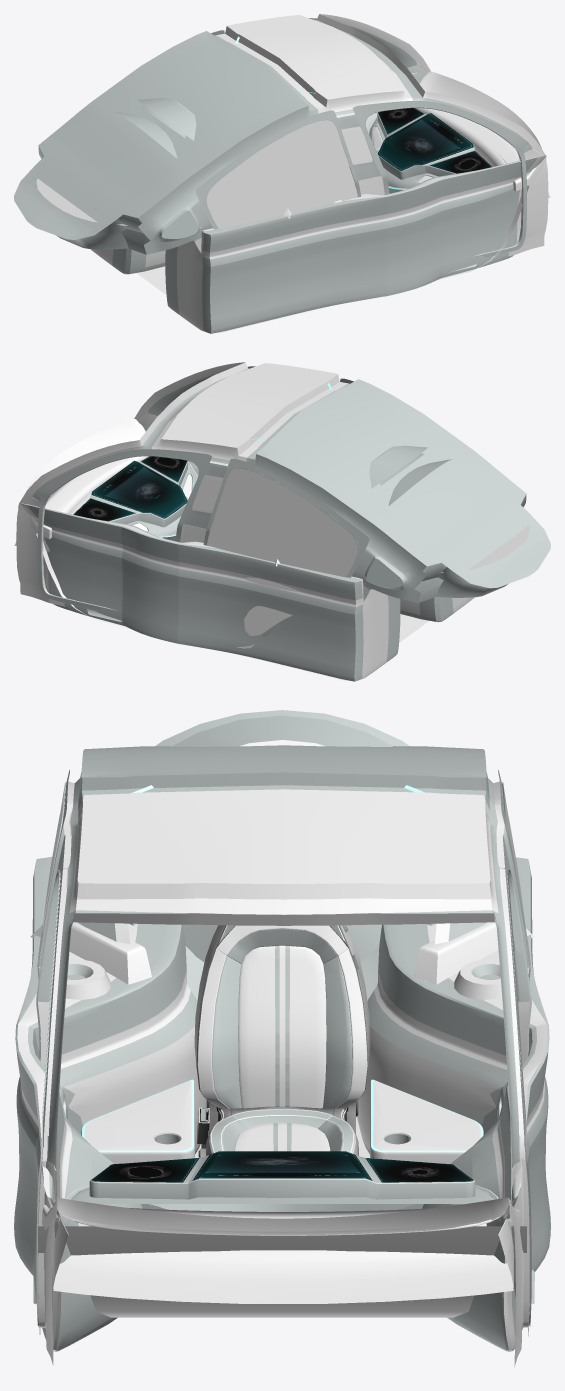
File: Bynocs Car 01.fbx
The picture shows the model from 3 angles, top to bottom: view 1: azimuth 30°, elevation 25°; view 2: azimuth 150°, elevation 25°; view 3: azimuth 270°, elevation 25°; orthographic projection. The views are drawn at different scales.
Visible parts, largest first — view 1: Frame_Low, Cube.001, Cube.002, Dashboard_Upper_Low, Sphere, Plane, Cube, Leather_white_Low; view 2: Frame_Low, Cube.001, Cube.002, Dashboard_Upper_Low, Sphere, Plane, Cube, Leather_white_Low; view 3: Frame_Low, Cube.001, Dashboard_Upper_Low, Plane, Cube.002, Lether_Y_1, Cube.003, Lether_Y_4, Sphere, Cube.004, Cube, Cylinder.001 (+5 smaller).
Part boxes in pixels (left/top/right/bottom): Frame_Low: left=14, top=14, right=548, bottom=272; Cube.001: left=90, top=72, right=546, bottom=333; Cube.002: left=377, top=108, right=492, bottom=179; Dashboard_Upper_Low: left=415, top=71, right=550, bottom=197; Sphere: left=113, top=98, right=196, bottom=158; Plane: left=136, top=185, right=529, bottom=333; Cube: left=367, top=114, right=438, bottom=193; Leather_white_Low: left=36, top=178, right=203, bottom=231; Frame_Low: left=16, top=362, right=550, bottom=648; Cube.001: left=19, top=424, right=474, bottom=681; Cube.002: left=73, top=456, right=188, bottom=527; Dashboard_Upper_Low: left=14, top=419, right=148, bottom=551; Sphere: left=369, top=445, right=452, bottom=505; Plane: left=36, top=533, right=429, bottom=680; Cube: left=127, top=462, right=197, bottom=540; Leather_white_Low: left=439, top=525, right=529, bottom=573; Frame_Low: left=33, top=745, right=534, bottom=1367; Cube.001: left=14, top=857, right=550, bottom=1351; Dashboard_Upper_Low: left=42, top=1197, right=522, bottom=1303; Plane: left=38, top=1116, right=526, bottom=1317; Cube.002: left=89, top=1151, right=475, bottom=1199; Lether_Y_1: left=197, top=925, right=367, bottom=1108; Cube.003: left=81, top=1079, right=483, bottom=1209; Lether_Y_4: left=238, top=945, right=326, bottom=1108; Sphere: left=77, top=710, right=487, bottom=1000; Cube.004: left=30, top=922, right=534, bottom=984; Cube: left=66, top=1178, right=498, bottom=1211; Cylinder.001: left=66, top=959, right=502, bottom=999.
Size of the model in its own units: 881 by 355 by 434.
4 materials, 1 textured.
